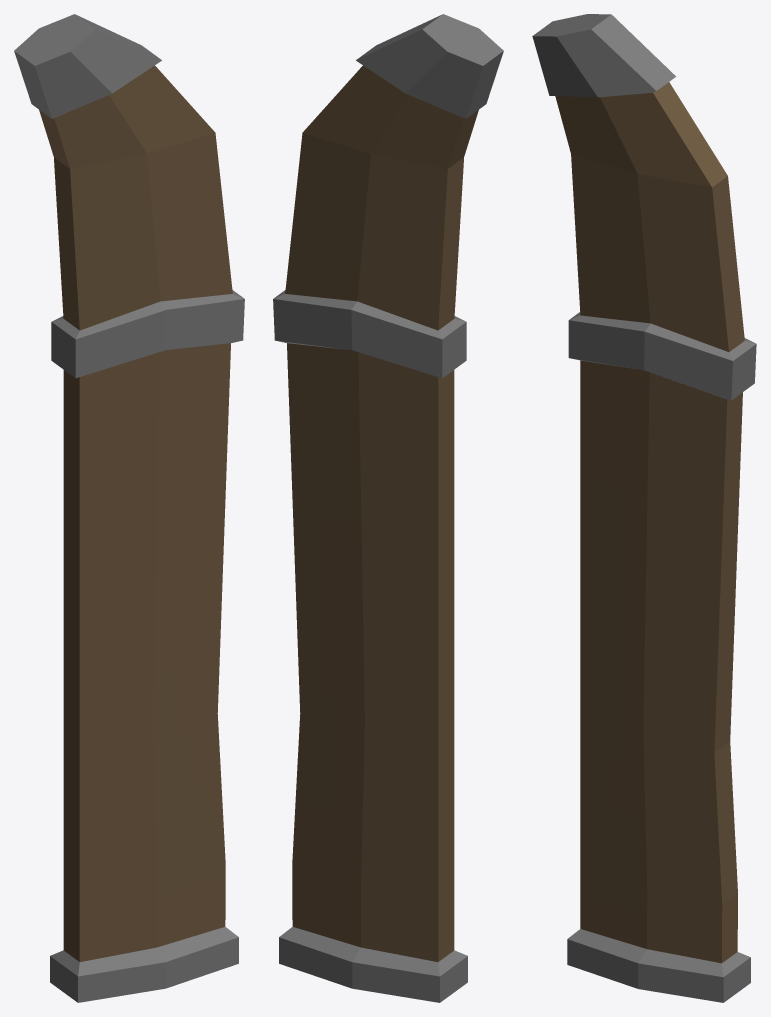
File: SM_Wep_Cutlass_02_Sheath.glb
The picture shows the model from 3 angles, left to right: view 1: azimuth 30°, elevation 25°; view 2: azimuth 150°, elevation 25°; view 3: azimuth 330°, elevation 25°; orthographic projection. The views are drawn at different scales.
Visible parts, largest first — view 1: SM_Wep_Cutlass_02_Sheath; view 2: SM_Wep_Cutlass_02_Sheath; view 3: SM_Wep_Cutlass_02_Sheath.
Boxes of the visible parts, x1,y1,x2,y2 form: SM_Wep_Cutlass_02_Sheath: [14, 14, 244, 1002]; SM_Wep_Cutlass_02_Sheath: [273, 14, 503, 1002]; SM_Wep_Cutlass_02_Sheath: [532, 14, 756, 1002].
Bounding box in the file's own units: 0.00196 × 0.00872 × 0.000697.
